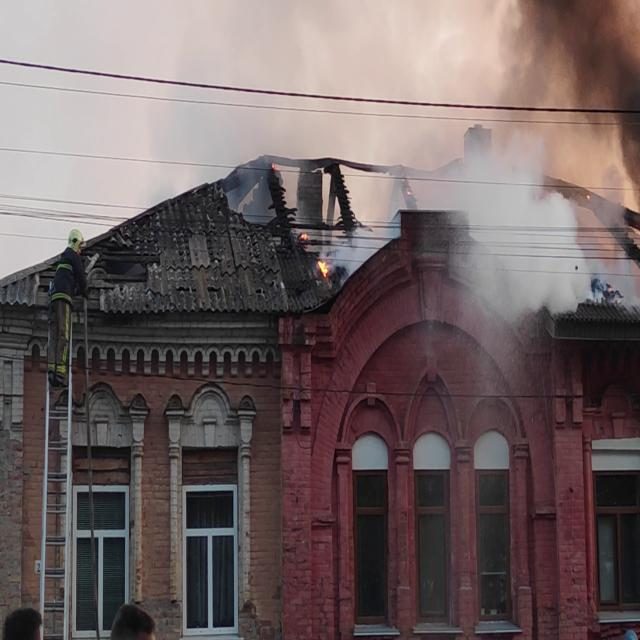smoke: (541, 2, 640, 176), (476, 187, 554, 309)
